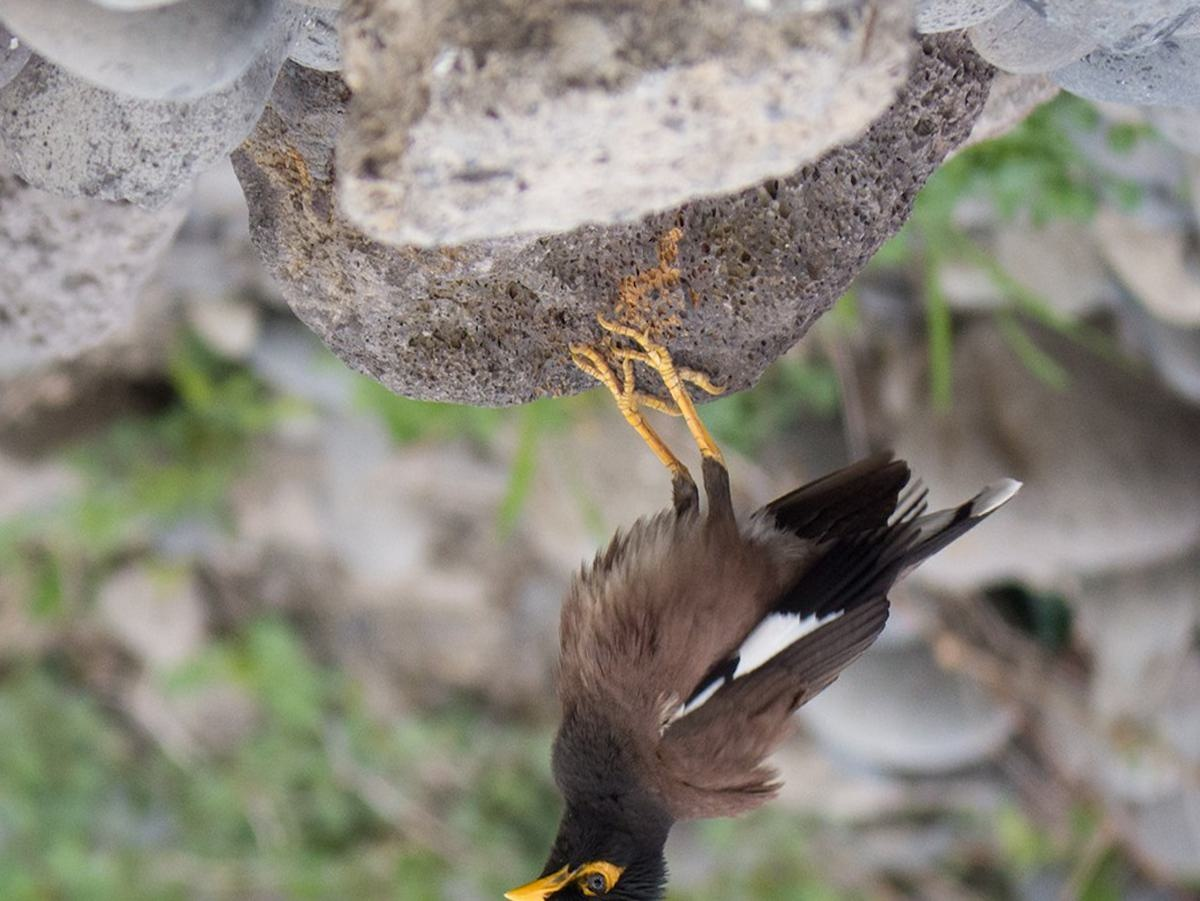myna: (488, 311, 917, 901)
